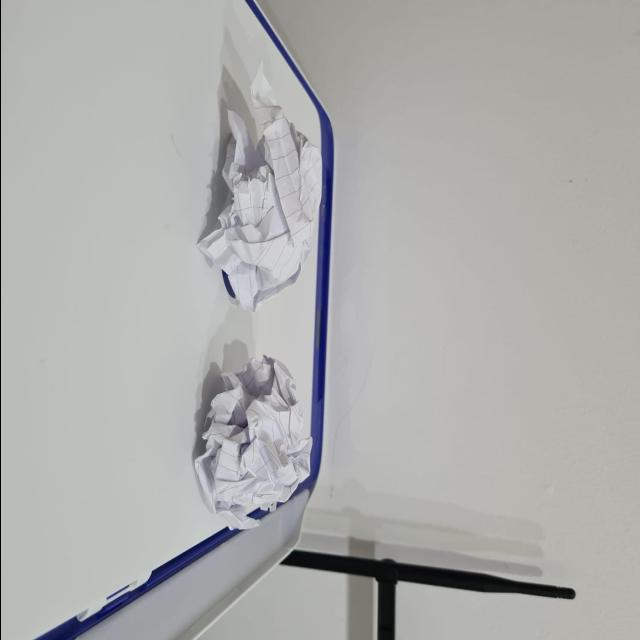kertas: (206, 114, 324, 310), (206, 348, 313, 522)
